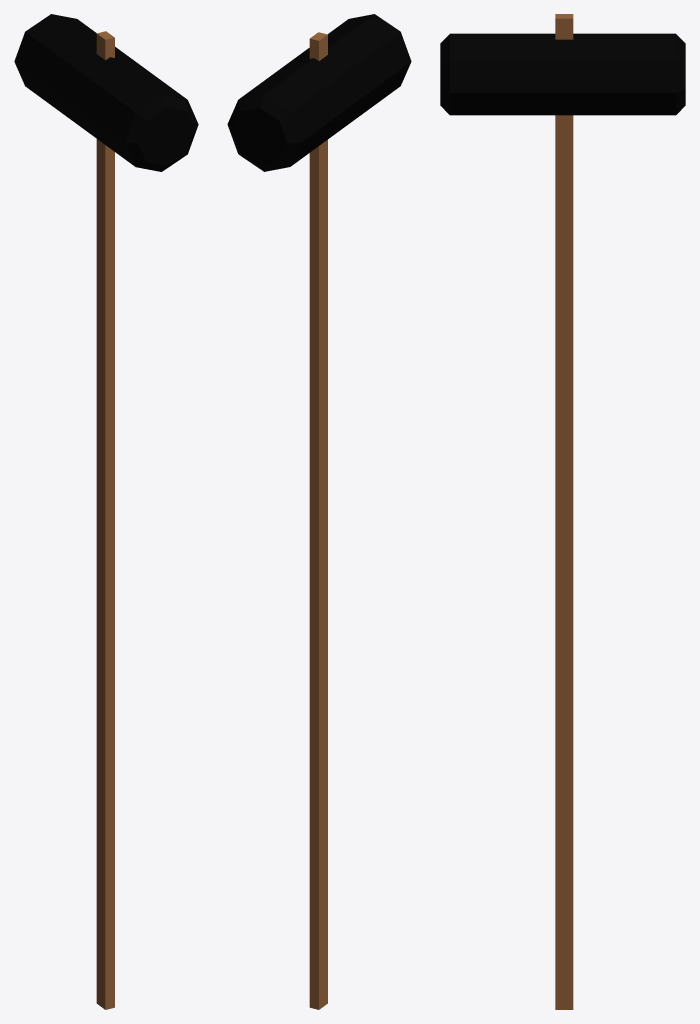
File: Sledgehammer.fbx
3 views of the same model, side by side, from view 1: azimuth 30°, elevation 25°; view 2: azimuth 150°, elevation 25°; view 3: azimuth 270°, elevation 25° (orthographic). The views are drawn at different scales.
Parts seen in each view (by area): view 1: Sledgehammer; view 2: Sledgehammer; view 3: Sledgehammer.
Boxes of the visible parts, bbox=[...] form: Sledgehammer: bbox=[14, 14, 198, 1009]; Sledgehammer: bbox=[227, 14, 411, 1009]; Sledgehammer: bbox=[440, 14, 685, 1009].
Bounding box in the file's own units: 14.2 × 178 × 40.
